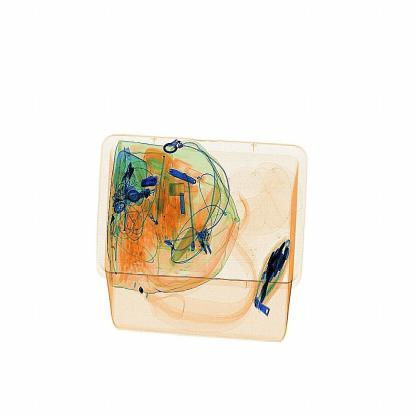knife: (137, 167, 166, 198)
